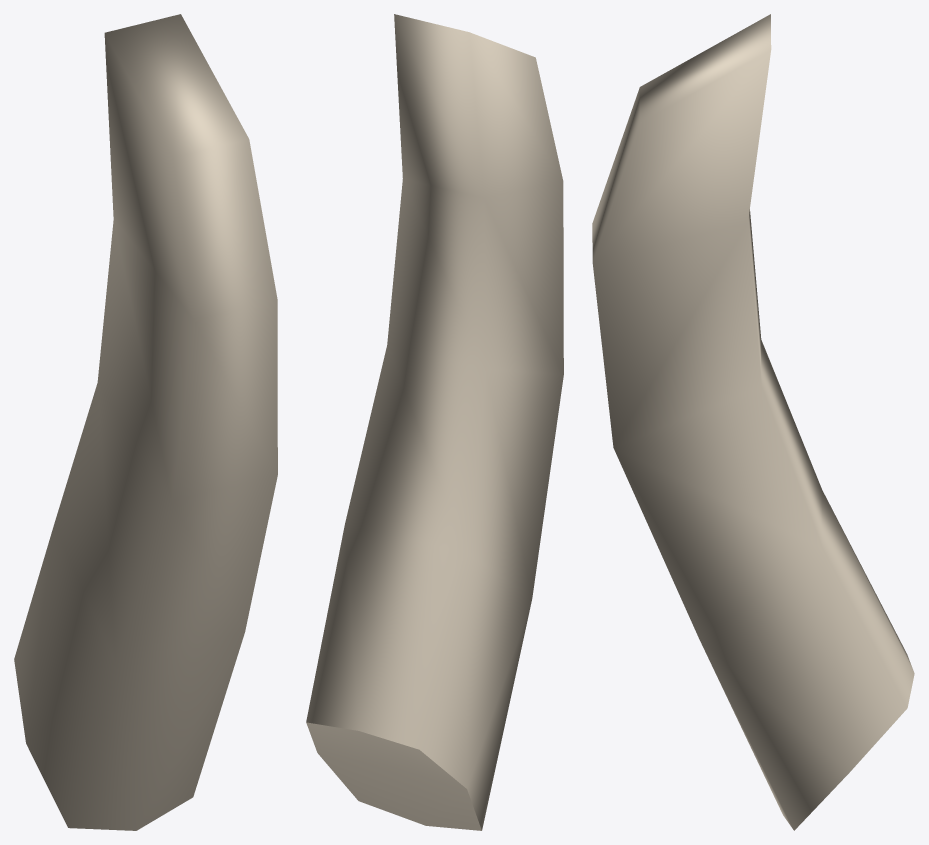
File: tail-base.glb
3 renders of one model, left to right at view 1: azimuth 30°, elevation 25°; view 2: azimuth 150°, elevation 25°; view 3: azimuth 270°, elevation 25°, orthographic. The views are drawn at different scales.
Size of the model in its own units: 0.0846 by 0.4321 by 0.1612.
